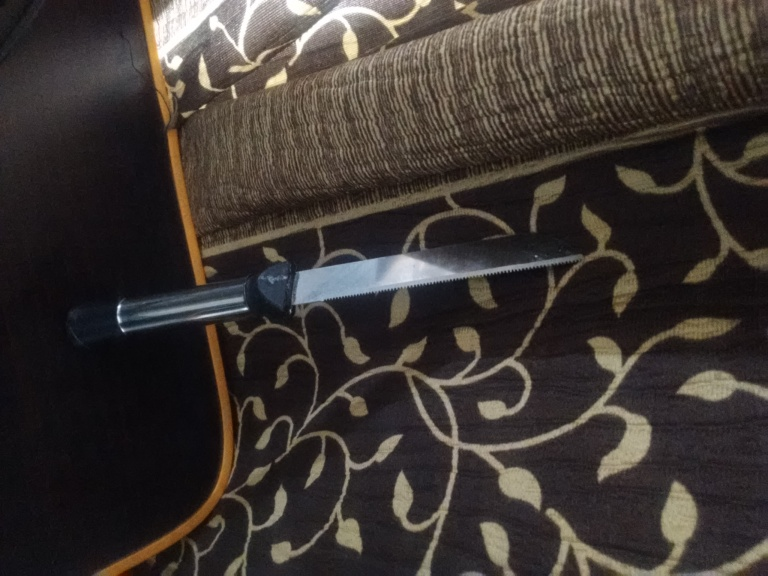knife: (62, 229, 587, 351)
